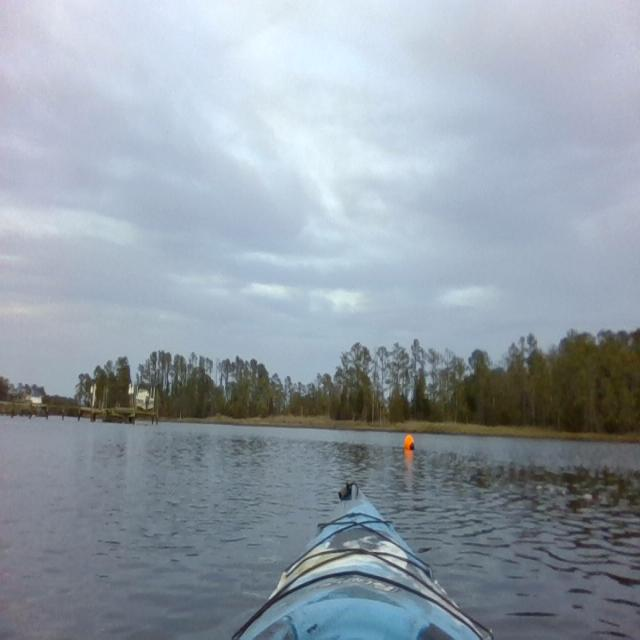Buoy: (403, 432, 416, 454)
